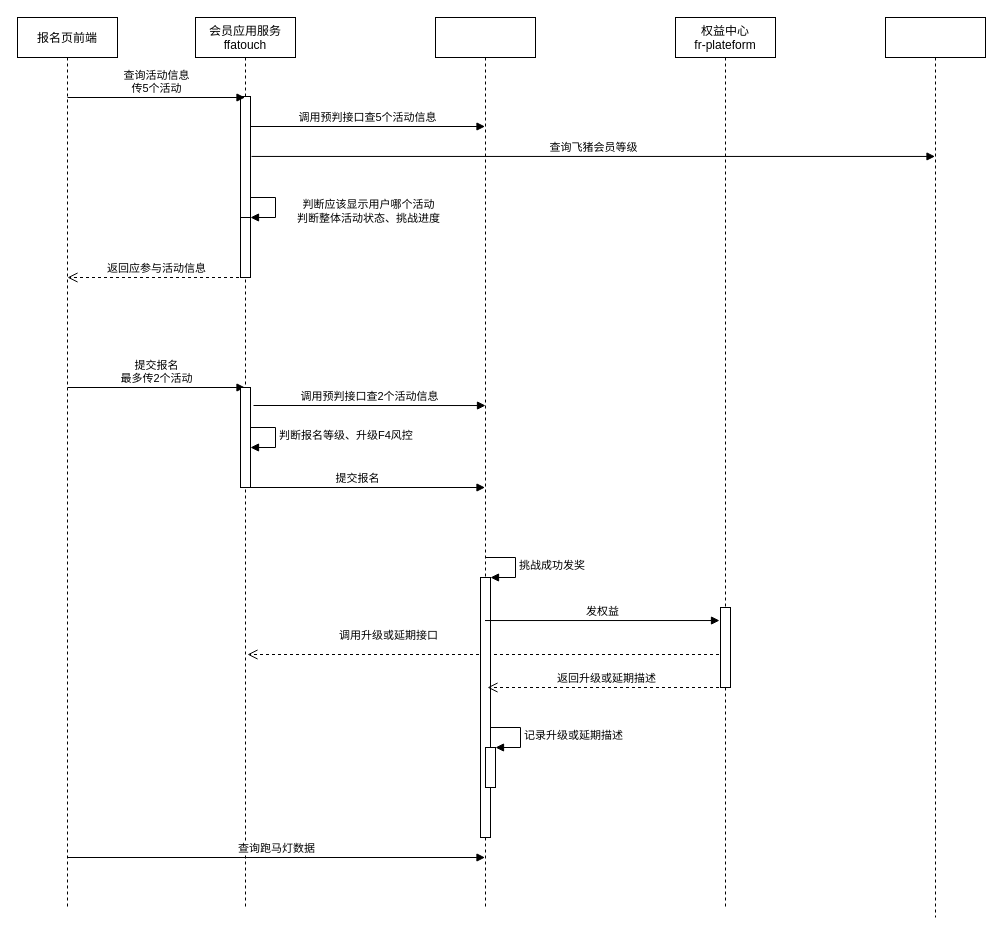
Some shapes in this 1003 by 935 pixel diagram are drawn without their labels. The shapes that lost their labels are listed below. From the top down, each one's box as (x1, y1, x2, y2) in pixels, then its label:
(434, 16, 536, 908): 兑换中心 f-exchange
(884, 16, 986, 918): 会员等级服务 ffalevel
